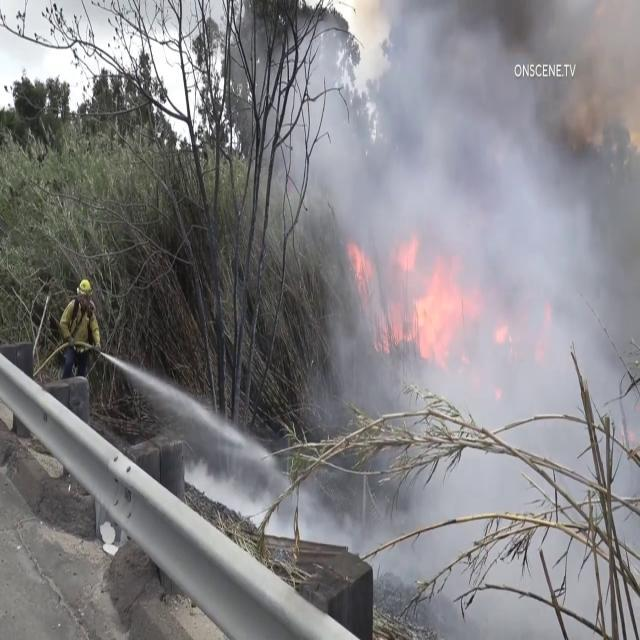Fire: (355, 234, 465, 364)
Smoke: (317, 0, 640, 431)
